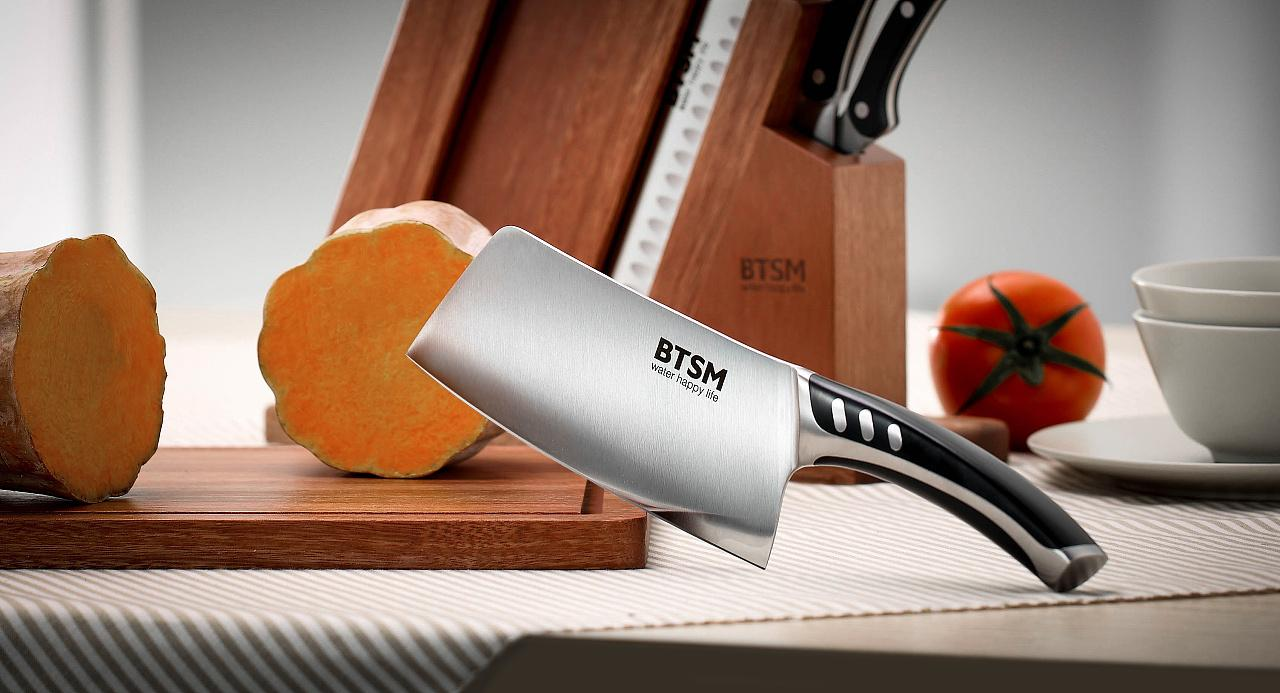knife: (304, 184, 1248, 639)
